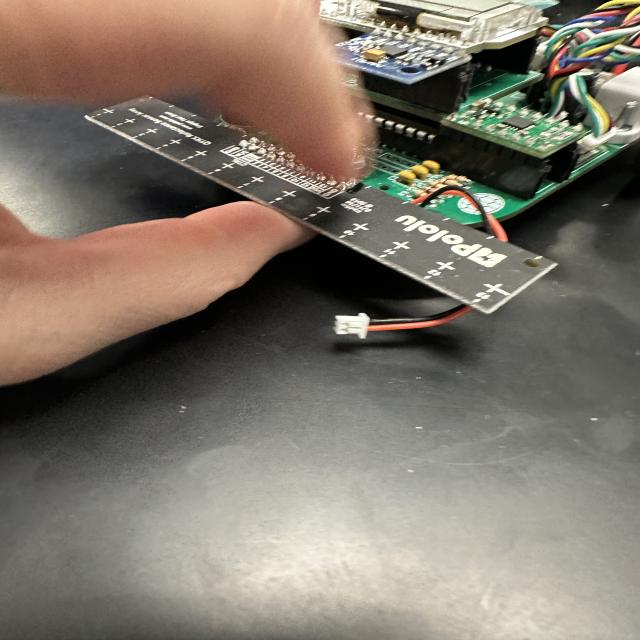robot: (87, 2, 640, 320)
